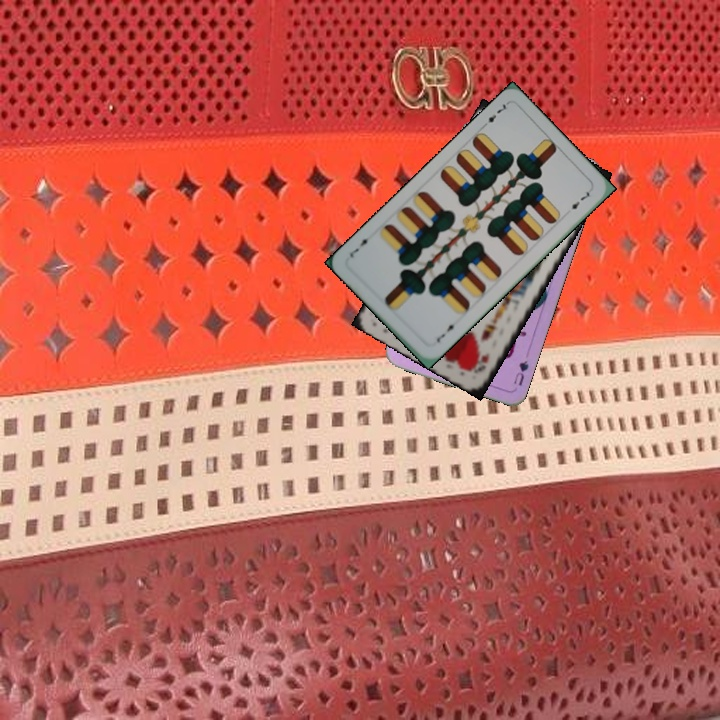E7: (478, 99, 511, 130), (432, 319, 460, 345)
GU: (510, 356, 531, 388)
HK: (469, 349, 492, 376)
